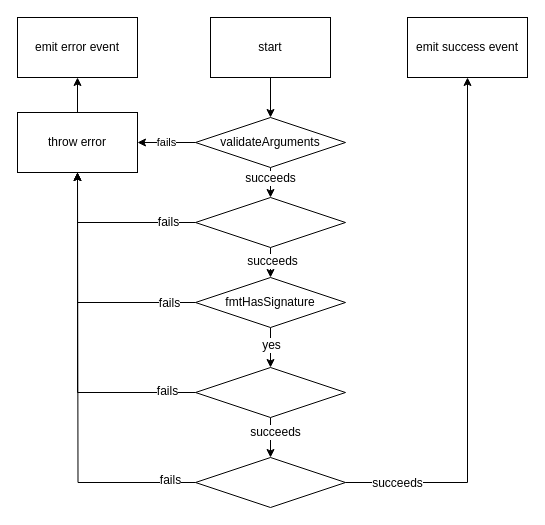
The diagram is 545 pixels wide and 525 high, and some of its shapes have lost their labels. Here are the shapes that lost their labels. From the top down, the box of each, then its label:
(194, 196, 346, 248): validateFmt
(194, 366, 346, 418): decipherSignature
(194, 456, 346, 508): testUrl
